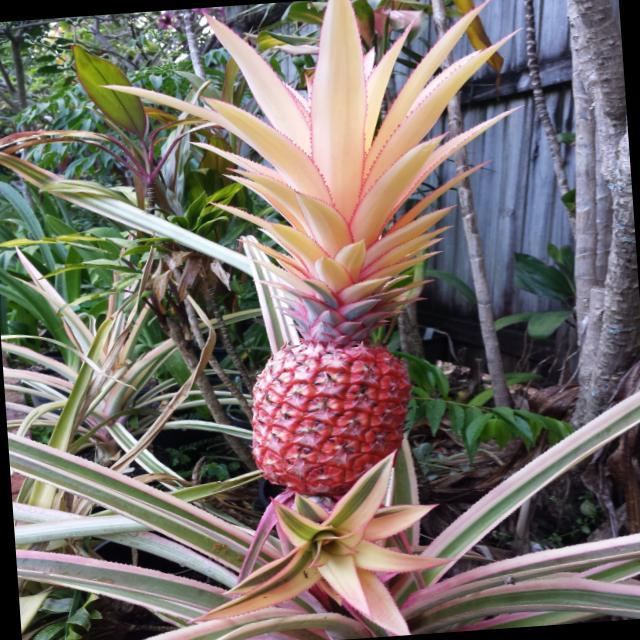PINEAPLE: (198, 44, 410, 496)
